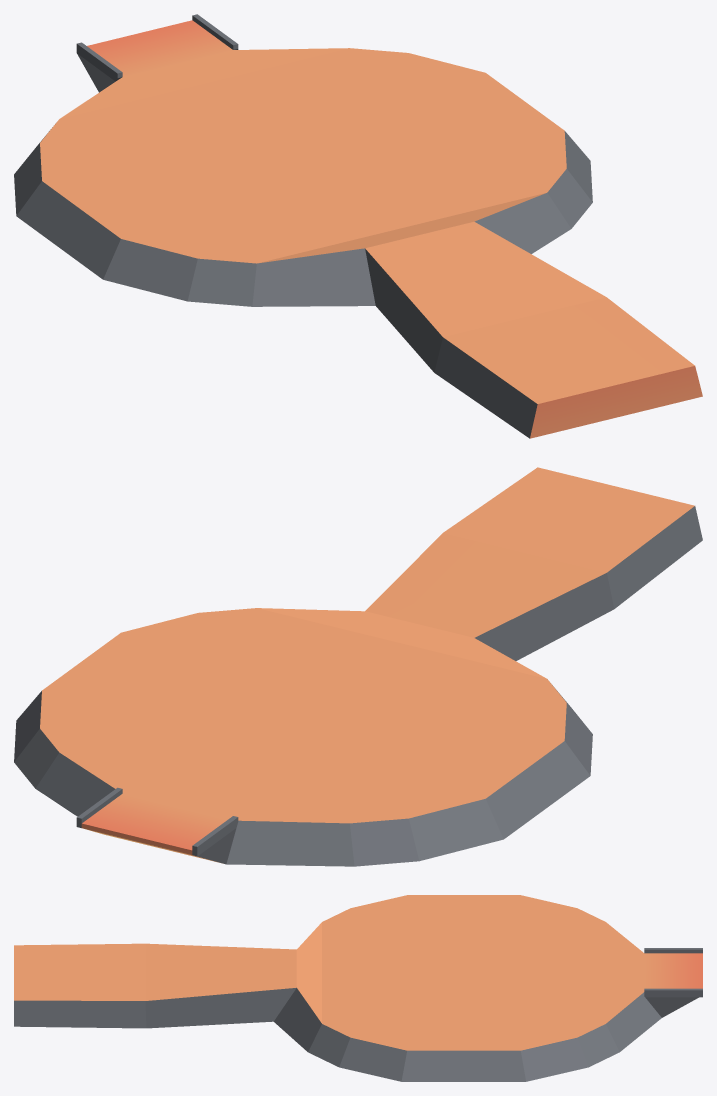
The model's file is levelend1.fbx.
The picture shows the model from 3 angles, top to bottom: view 1: azimuth 30°, elevation 25°; view 2: azimuth 150°, elevation 25°; view 3: azimuth 270°, elevation 25°; orthographic projection. The views are drawn at different scales.
Visible parts, largest first — view 1: road.001; view 2: road.001; view 3: road.001.
Boxes of the visible parts, x1,y1,x2,y2 form: road.001: [14, 14, 702, 438]; road.001: [14, 467, 702, 866]; road.001: [14, 895, 702, 1081].
Size of the model in its own units: 2593 by 227 by 4416.
